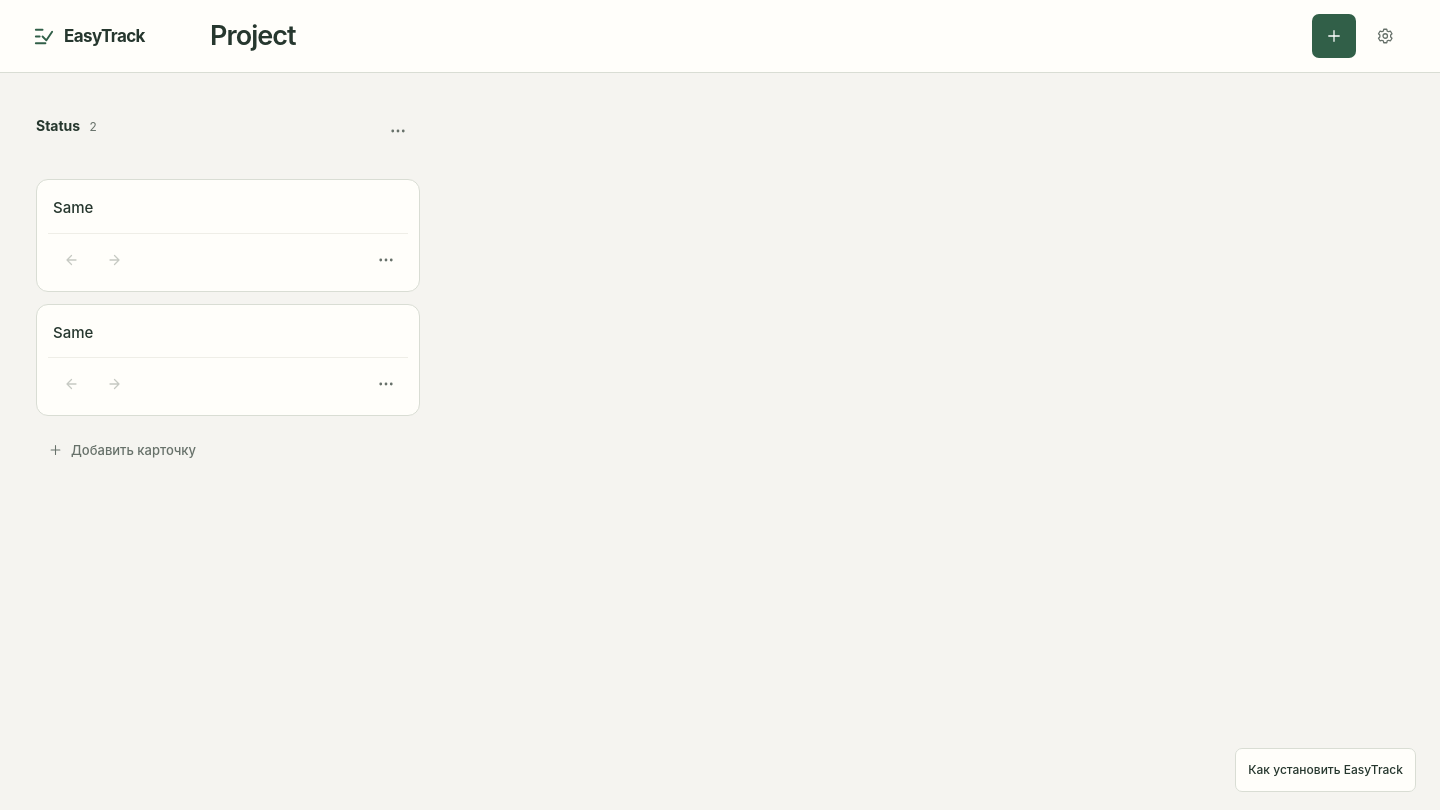
Test: keeps the card and dialog after a storage failure and permits retry
The image size is (1440, 810).
Check: the heading "Project" is shown, box [210, 19, 296, 52]
Click the 1st button named "Действия карточки Same": [386, 260] box [364, 238, 408, 282]
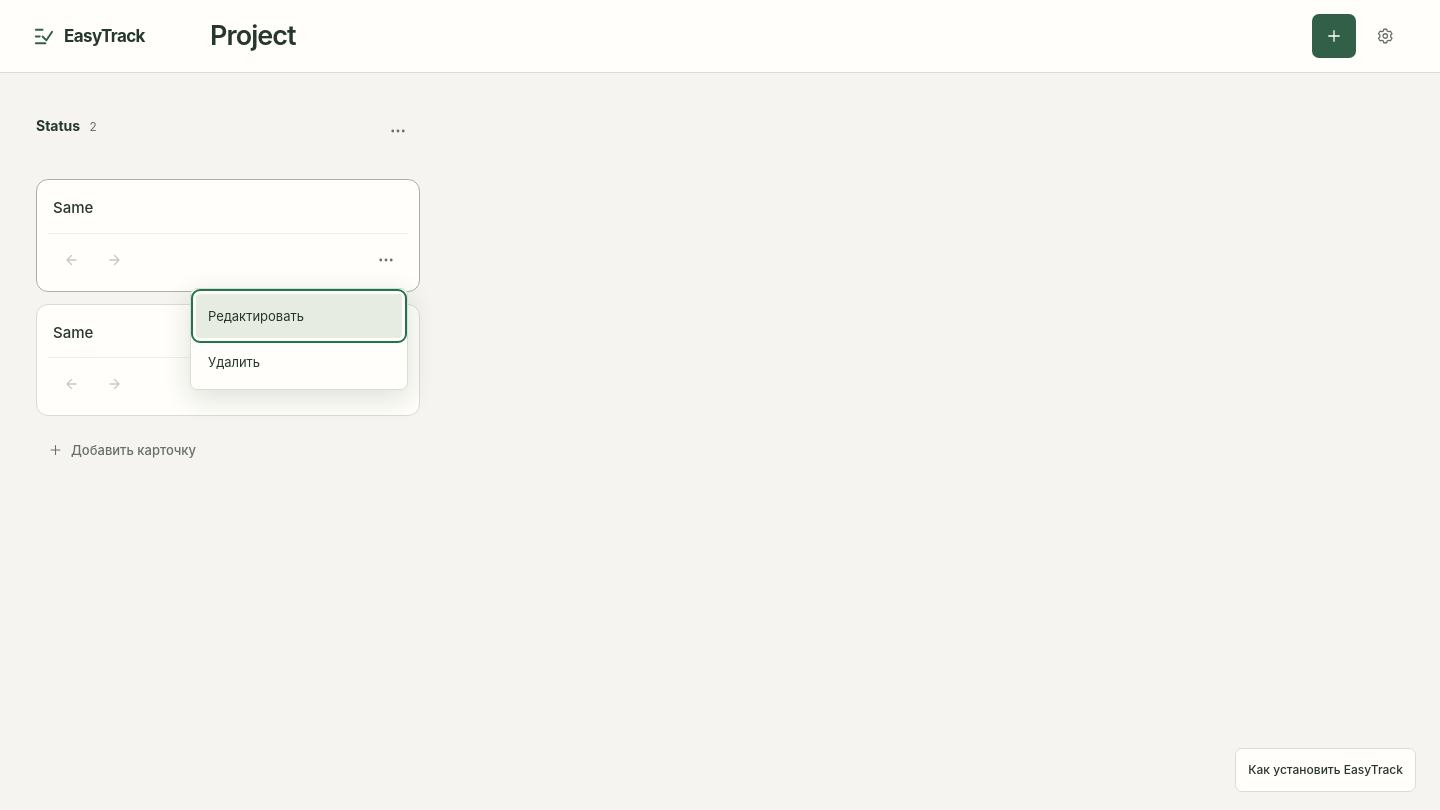
Click the menu item "Удалить": [299, 362] box [196, 340, 402, 384]
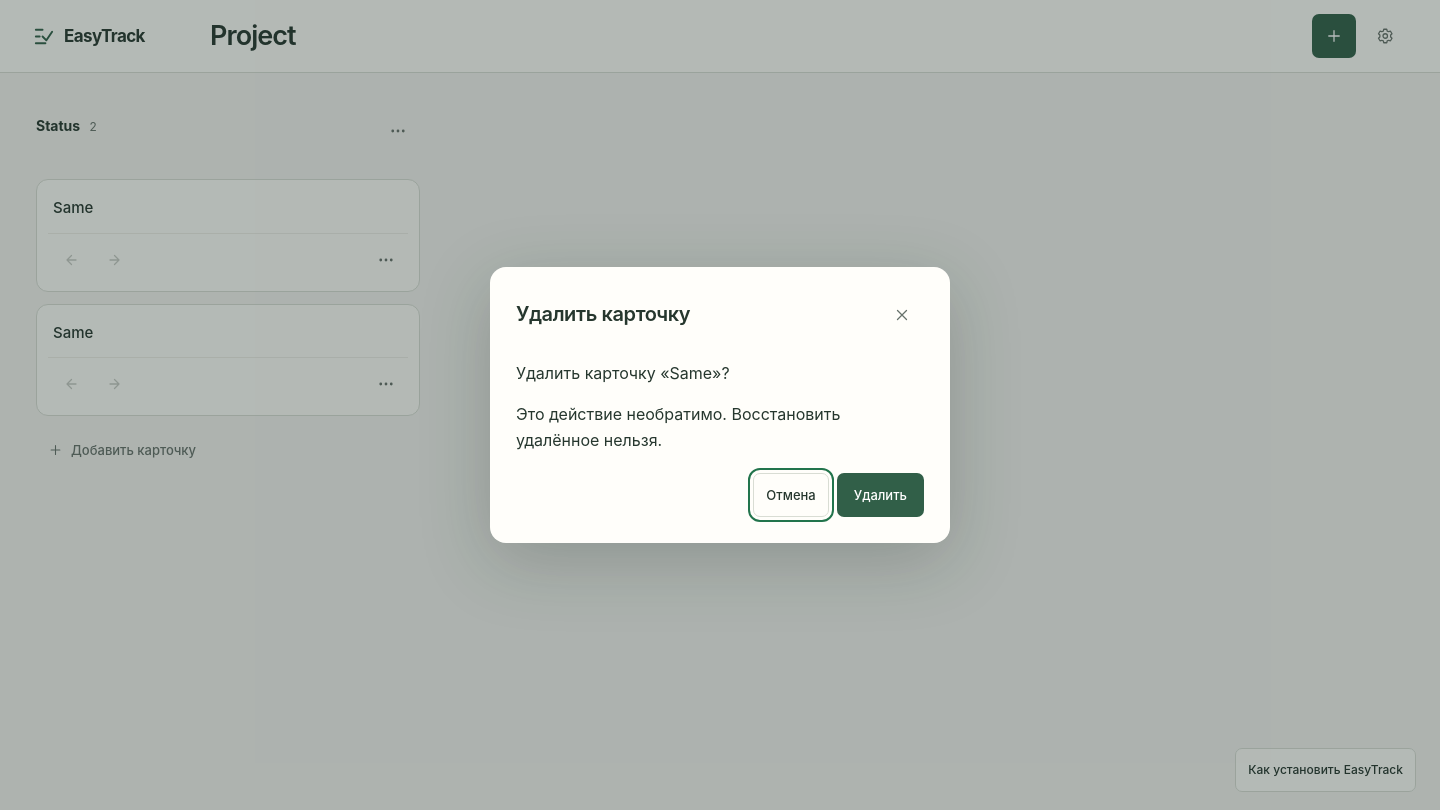
Click the button "Удалить": [880, 495] box [837, 473, 924, 517]
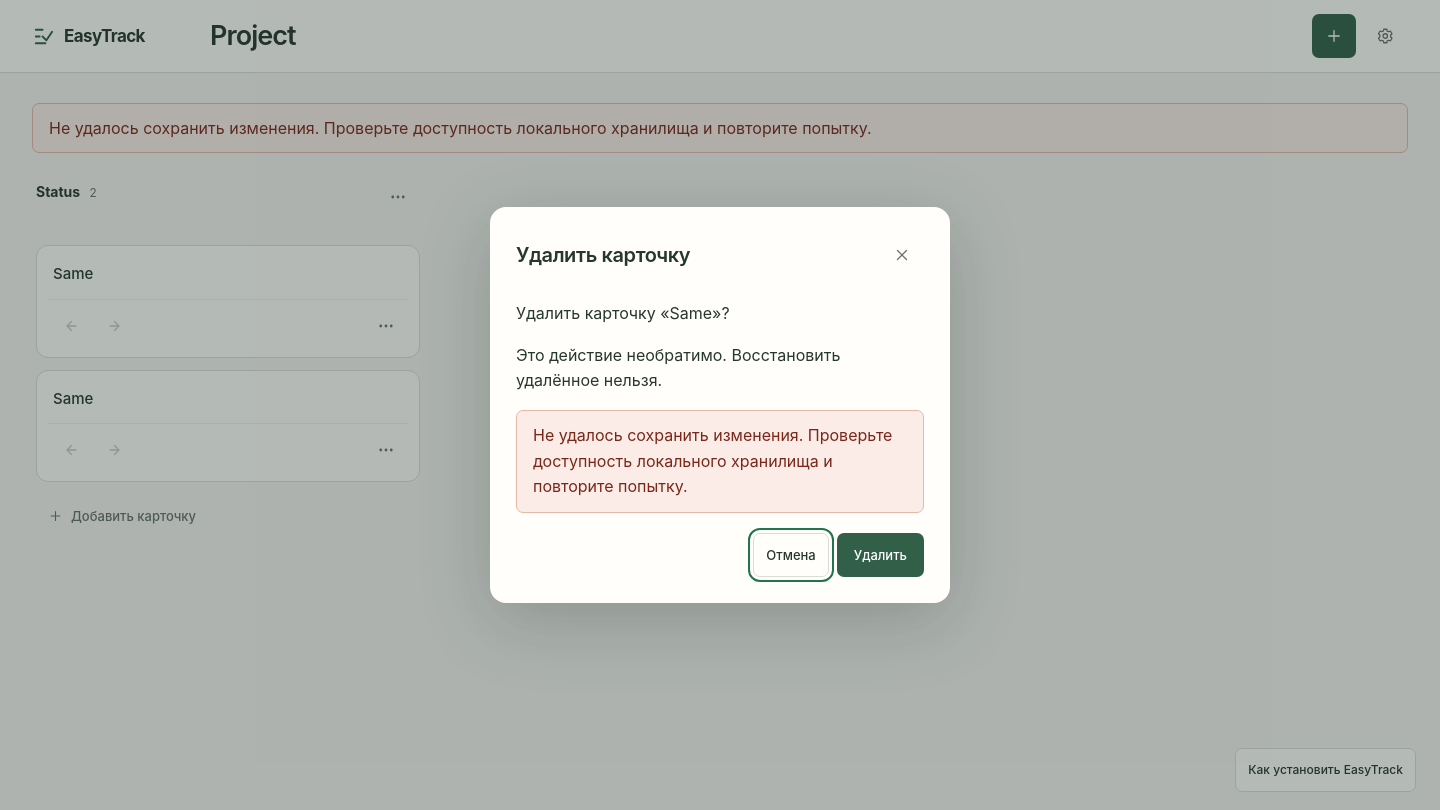
Check: the button named "Действия карточки Same" is shown, box [364, 304, 408, 348]
Check: the message shows "Не удалось сохранить", box [533, 425, 892, 496]
Click the button "Удалить": [880, 555] box [837, 533, 924, 577]
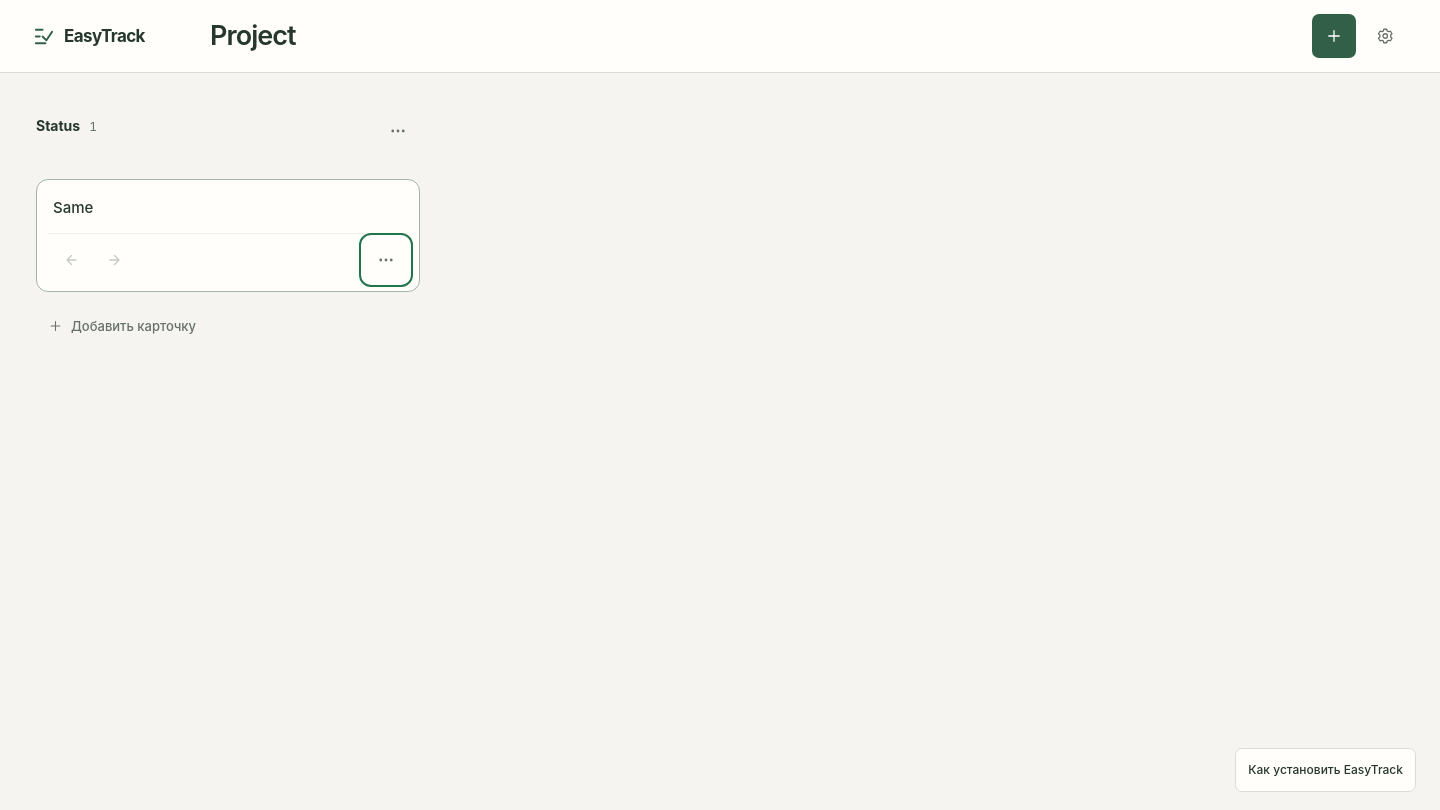
Check: the dialog is gone
